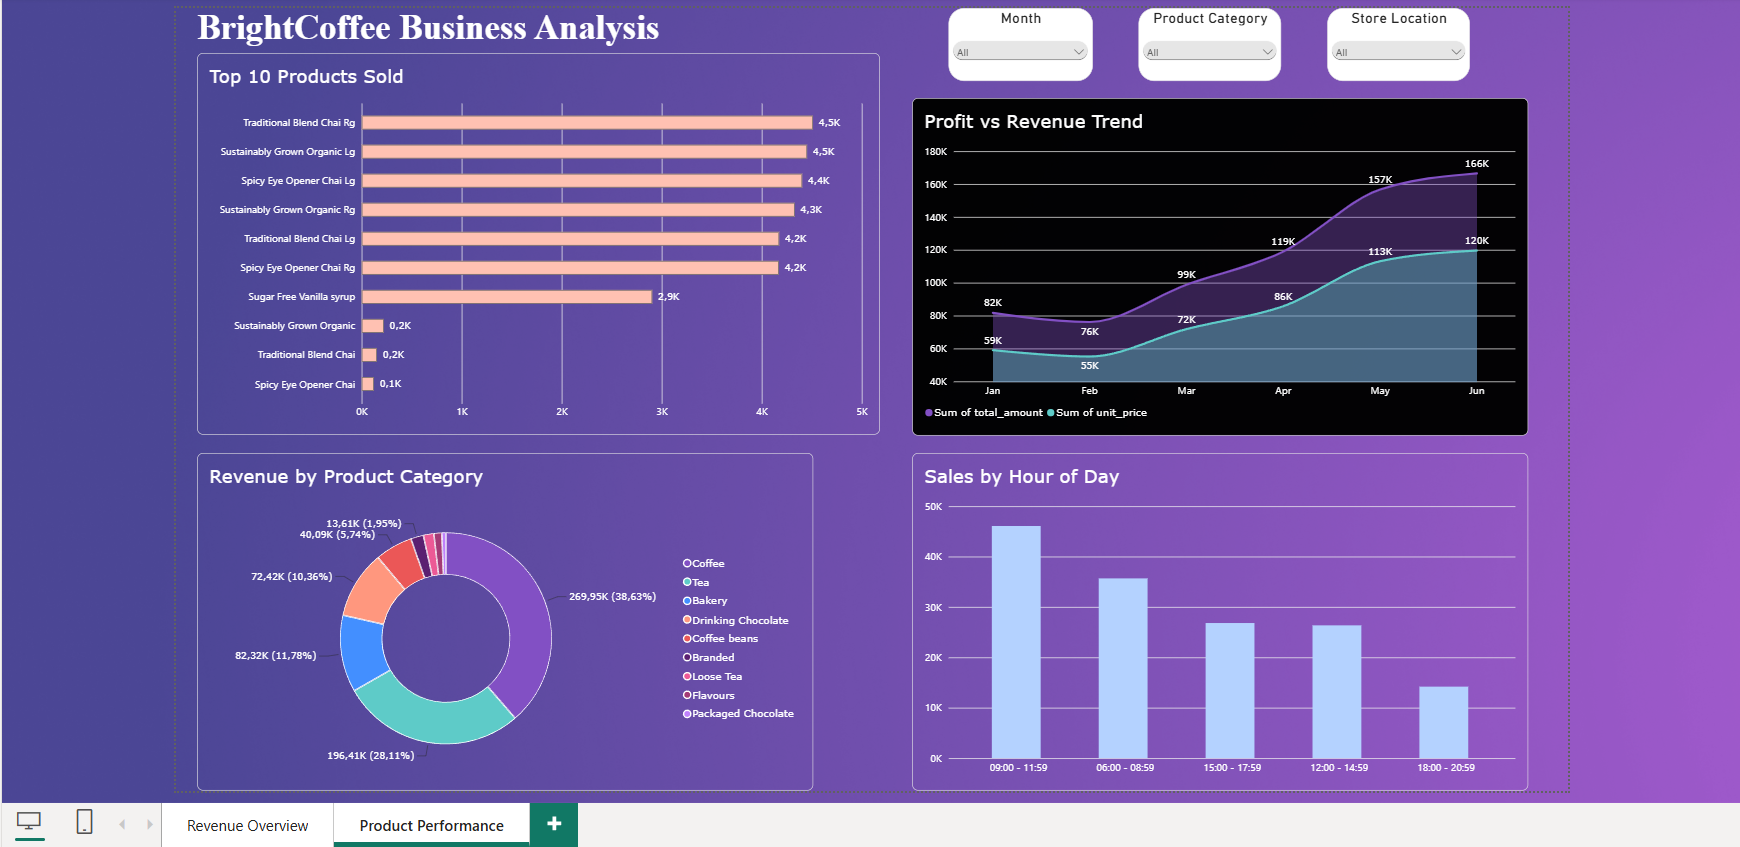

This screenshot's page, from the dashboard's own definition file:
{"tool":"powerbi","page":{"name":"Product Performance","canvas":[1920,1080],"ordinal":1},"visuals":[{"type":"textbox","box":[29.7,0,659.3,94.2],"z":0},{"type":"donutChart","title":"Revenue by Product Category","fields":{"Category":["result.product_category"],"Y":["Sum(result.total_amount)"]},"box":[29.7,614,849.4,465.7],"z":1000},{"type":"slicer","title":"Month","fields":{"Values":["result.Month Name"]},"box":[1065.7,0,198.8,101.2],"z":2000},{"type":"slicer","title":"Product Category","fields":{"Values":["result.product_category"]},"box":[1327.3,0,197.1,101.2],"z":3000},{"type":"slicer","title":"Store Location","fields":{"Values":["result.store_location"]},"box":[1587.2,0,197.1,101.2],"z":4000},{"type":"barChart","title":"Top 10 Products Sold","fields":{"Category":["result.product_detail"],"Y":["Sum(result.transaction_qty)"]},"box":[29.7,62.8,941.9,526.7],"z":5000},{"type":"areaChart","title":"Profit vs Revenue Trend","fields":{"Y":["Sum(result.total_amount)","Sum(result.unit_price)"],"Category":["result.Month Name"]},"box":[1015.1,123.8,849.4,465.7],"z":6000},{"type":"clusteredColumnChart","title":"Sales by Hour of Day","fields":{"Y":["CountNonNull(result.transaction_id)"],"Category":["result.transaction_time_bucket"]},"box":[1015.1,614,849.4,465.7],"z":7000}]}

Visuals, with their boxes on the page's 1920x1080 design canvas (x1, y1, x2, y2). These are canvas units, not pixel positions in the 1740x847 screenshot, which may show the page scaled, cropped or inside an application window:
textbox: 30/0/689/94
"Revenue by Product Category" donutChart: 30/614/879/1080
"Month" slicer: 1066/0/1264/101
"Product Category" slicer: 1327/0/1524/101
"Store Location" slicer: 1587/0/1784/101
"Top 10 Products Sold" barChart: 30/63/972/590
"Profit vs Revenue Trend" areaChart: 1015/124/1864/590
"Sales by Hour of Day" clusteredColumnChart: 1015/614/1864/1080
